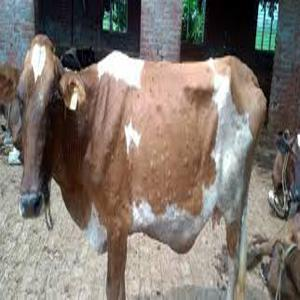lumpy skin diesease: (15, 32, 268, 299), (268, 127, 299, 218), (0, 61, 23, 162)
